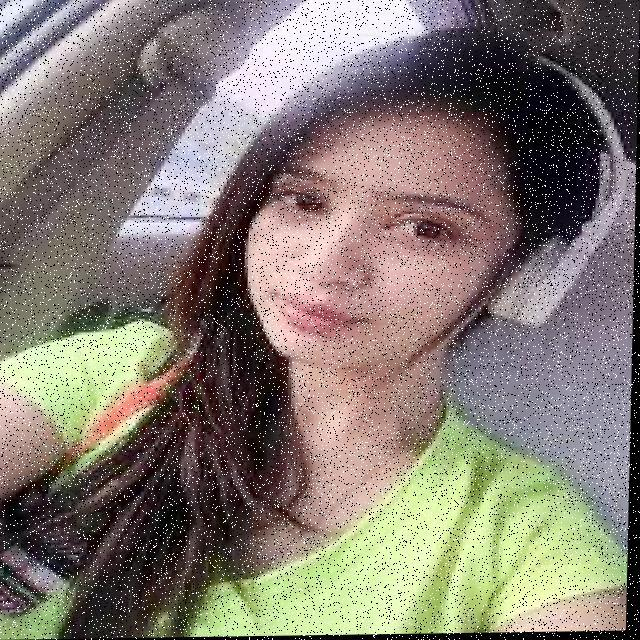noSeatbelt: (0, 289, 635, 640)
